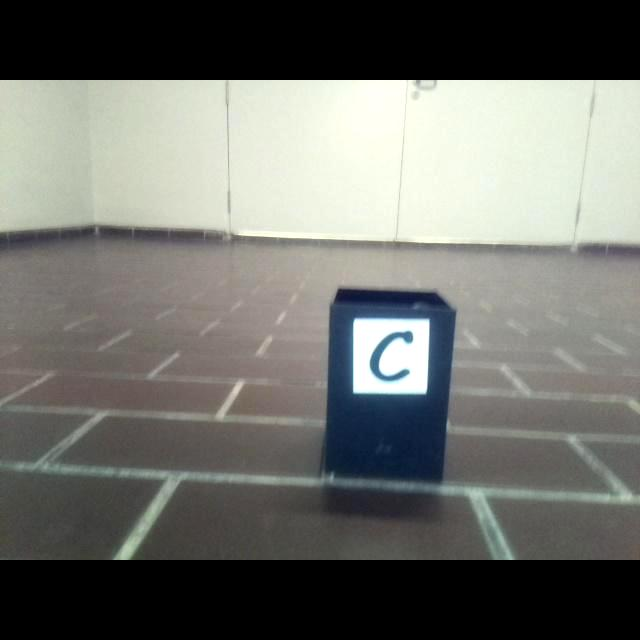C: (370, 331, 414, 383)
